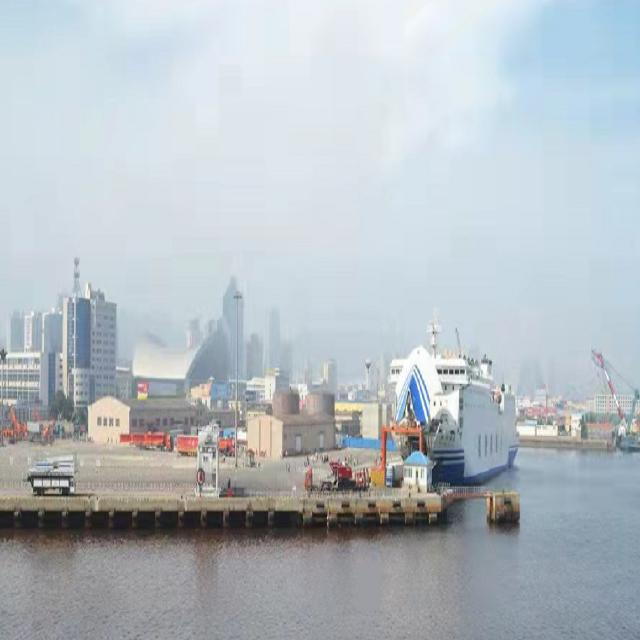passenger ship: (410, 319, 546, 475)
